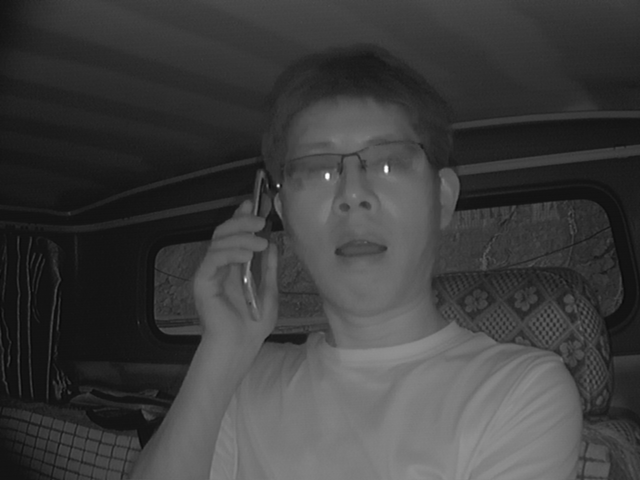hand: (182, 203, 287, 333)
